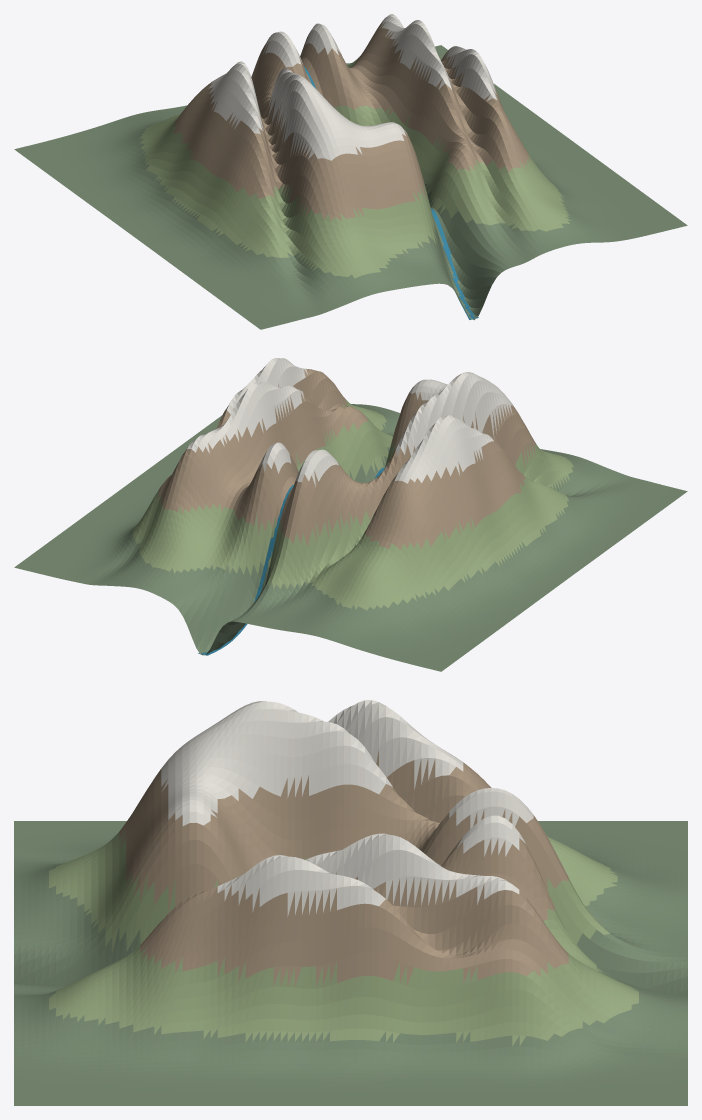
Rendered from source.gltf.
The picture shows the model from 3 angles, top to bottom: view 1: azimuth 30°, elevation 25°; view 2: azimuth 150°, elevation 25°; view 3: azimuth 270°, elevation 25°; orthographic projection. The views are drawn at different scales.
Visible parts, largest first — view 1: Eroded mountain watershed; view 2: Eroded mountain watershed; view 3: Eroded mountain watershed.
Boxes of the visible parts, x1,y1,x2,y2 form: Eroded mountain watershed: [14, 14, 687, 329]; Eroded mountain watershed: [14, 358, 687, 671]; Eroded mountain watershed: [14, 700, 687, 1105].
Size of the model in its own units: 12 by 5.24 by 12.
